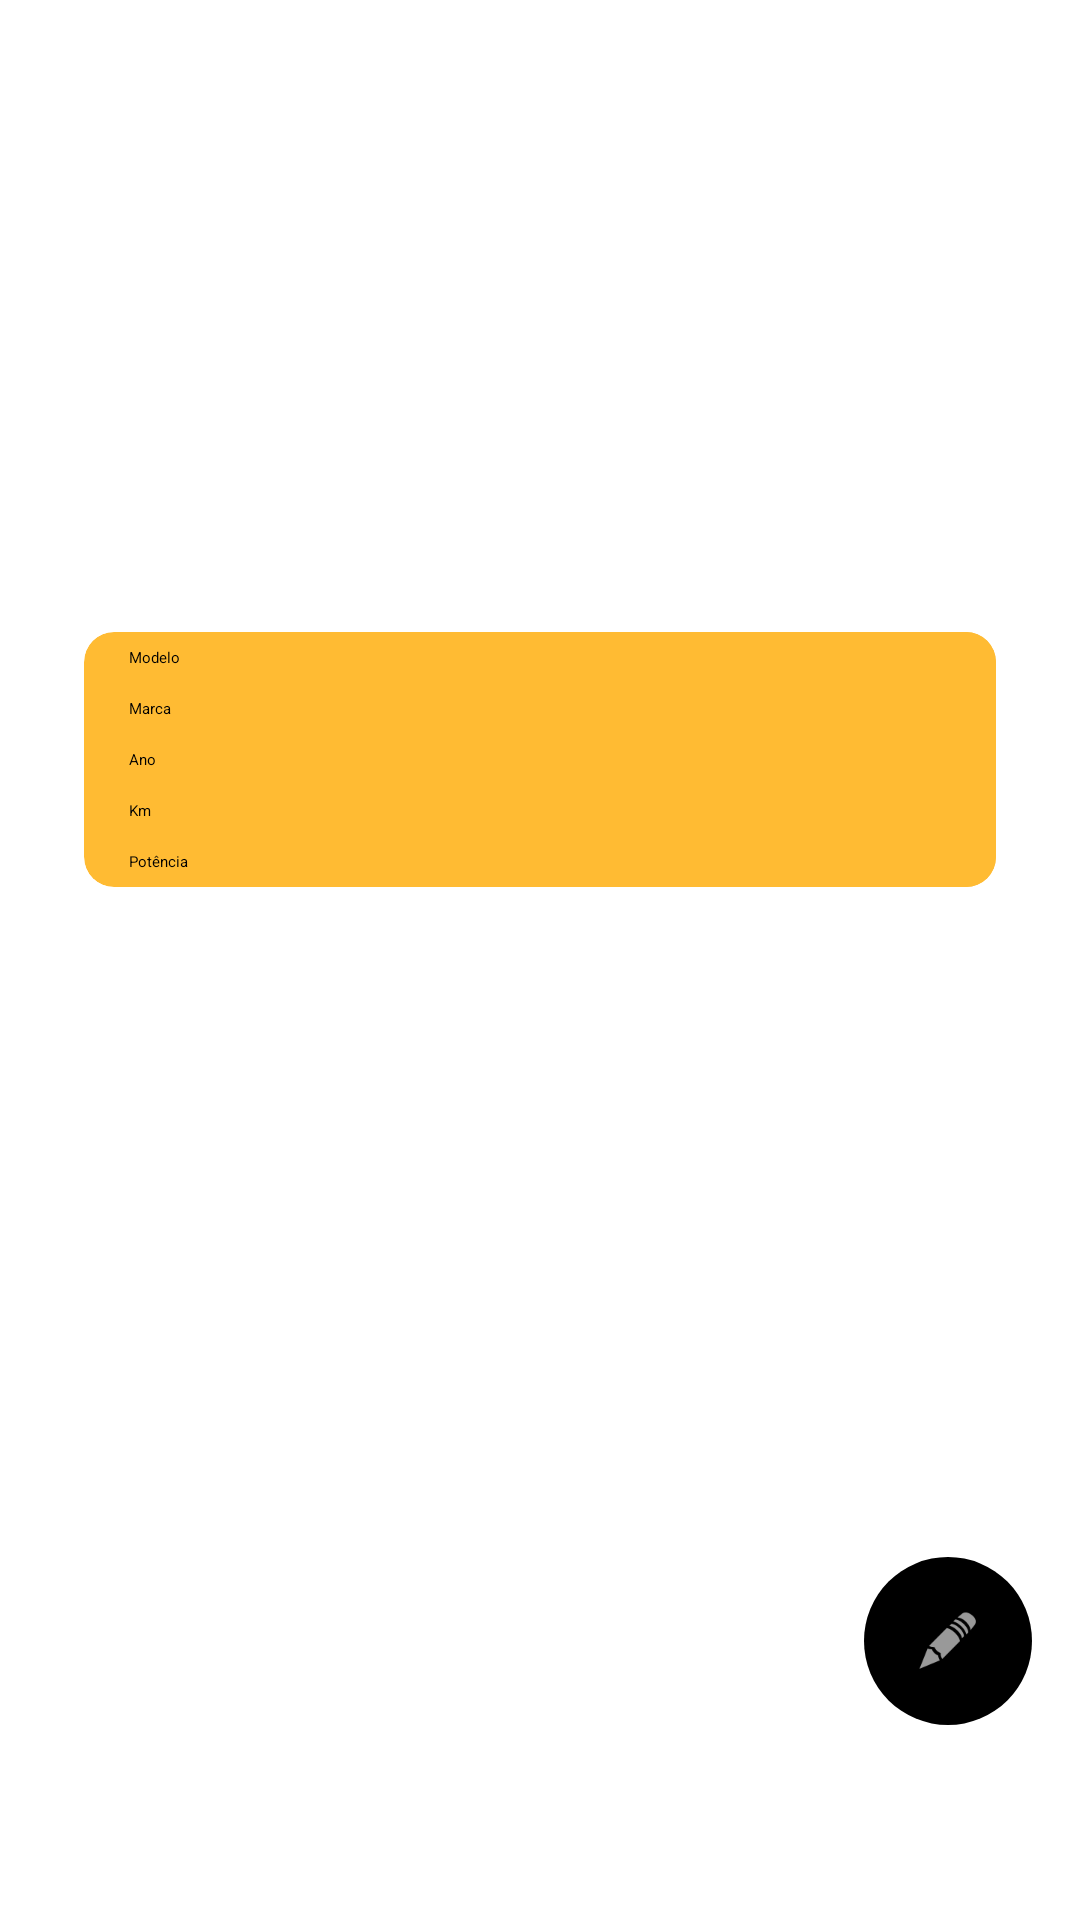

Screen size 1080*1920. Icon name, then its center in pixels as [x,y]:
edit: [948,1641]
